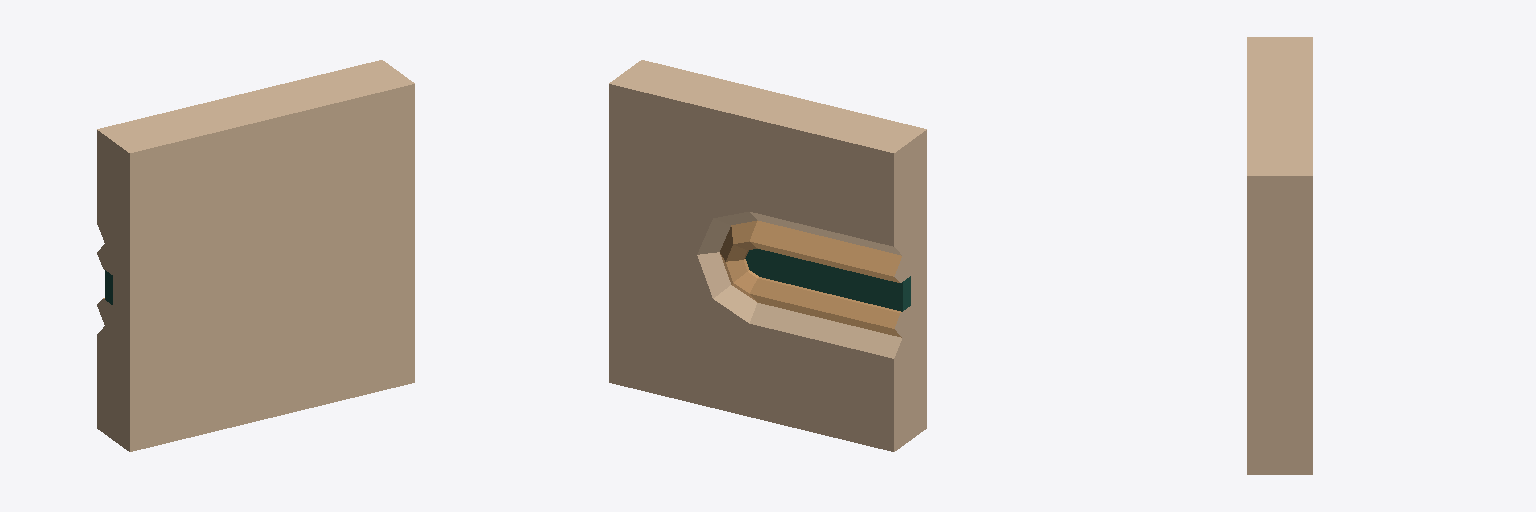
Rendered from Puzzle_Wall_Conduit_Path_End.obj.
3 renders of one model, left to right at view 1: azimuth 30°, elevation 25°; view 2: azimuth 150°, elevation 25°; view 3: azimuth 270°, elevation 25°, orthographic.
Visible parts, largest first — view 1: object2; view 2: object2, object1; view 3: object2.
Boxes of the visible parts, x1,y1,x2,y2 form: object2: [97, 60, 414, 451]; object2: [609, 60, 926, 451]; object1: [745, 249, 910, 311]; object2: [1247, 37, 1312, 474].
Size of the model in its own units: 1 by 1 by 0.2.